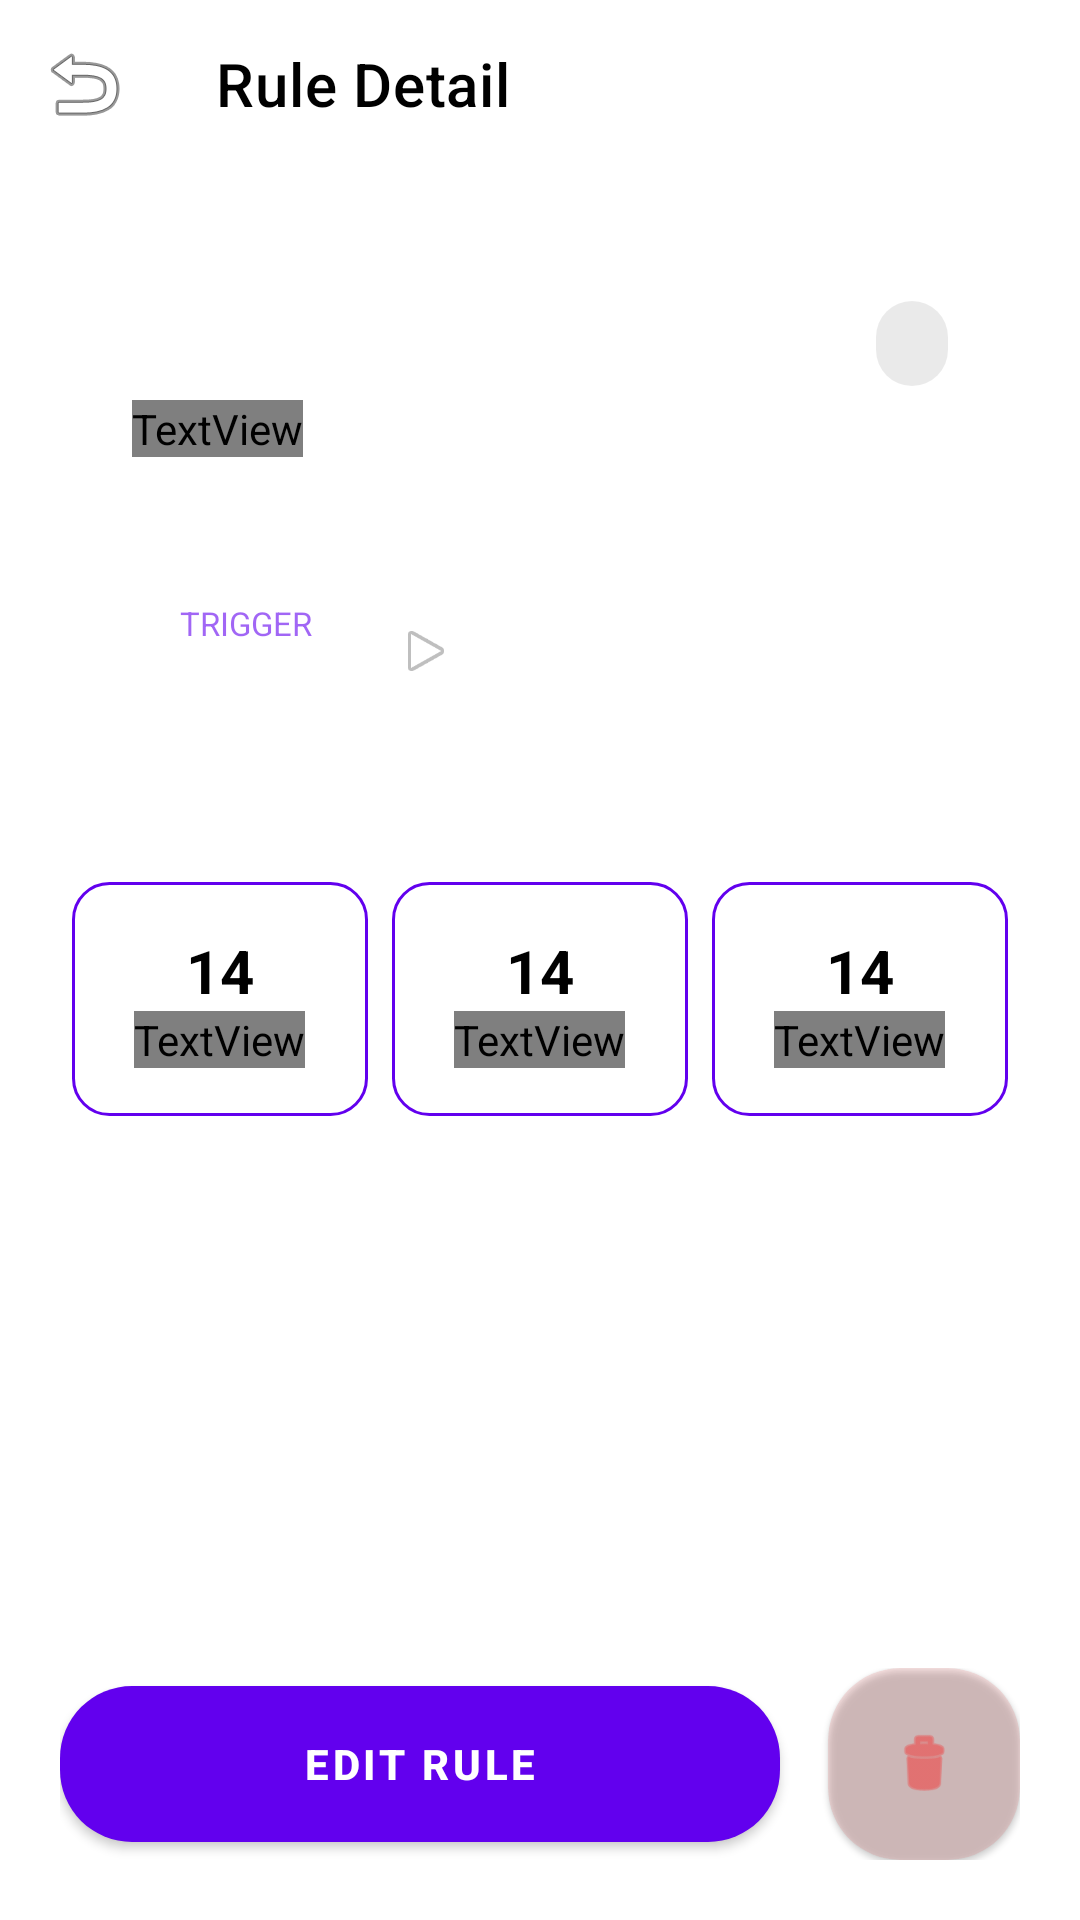

Named icons in this screenshot (1080 x 1920) and their centers, point (x, y):
Delete Rule: point (924, 1763)
Flow Arrow: point (426, 651)
